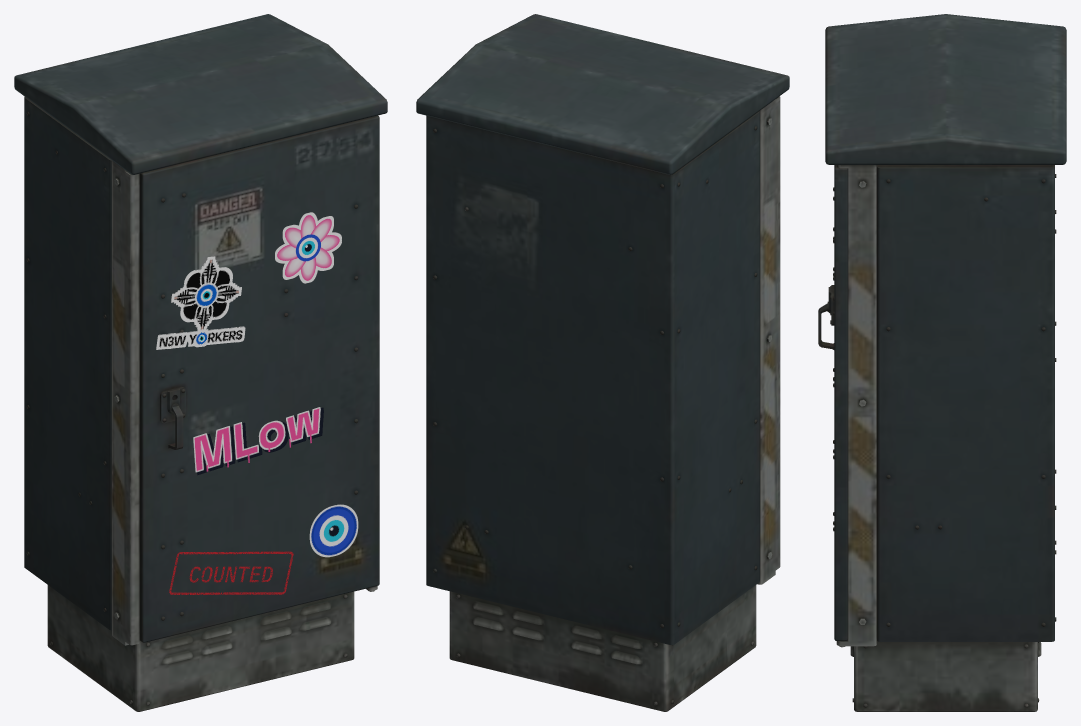
Rendered from nyb_utility_bomb.glb.
3 views of the same model, side by side, from view 1: azimuth 30°, elevation 25°; view 2: azimuth 150°, elevation 25°; view 3: azimuth 270°, elevation 25° (orthographic).
Parts seen in each view (by area): view 1: utility_box_01_box, stk_logo11.png, stk_tag_mlow.png, stk_eyeflower_die.png, stk_nazar_die.png, stk_counted.png; view 2: utility_box_01_box; view 3: utility_box_01_box.
Boxes of the visible parts, box(x1,y1,x2,y2) form: utility_box_01_box: box(14, 14, 387, 711); stk_logo11.png: box(156, 256, 245, 349); stk_tag_mlow.png: box(193, 407, 323, 475); stk_eyeflower_die.png: box(275, 212, 341, 283); stk_nazar_die.png: box(309, 504, 358, 557); stk_counted.png: box(169, 551, 293, 594); utility_box_01_box: box(416, 14, 789, 711); utility_box_01_box: box(818, 14, 1066, 711).
Bounding box in the file's own units: 0.52 × 1.12 × 0.432.
6 materials, 6 textured.
